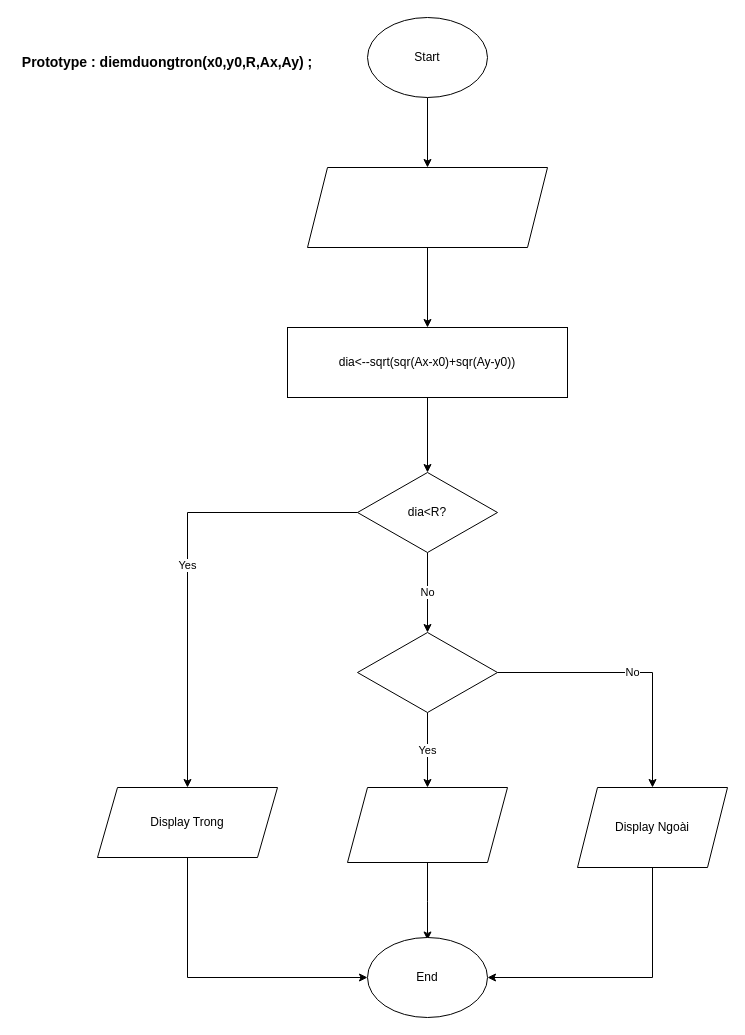
Some shapes in this 745 by 1035 pixel diagram are drawn without their labels. The shapes that lost their labels are listed below. From the top down, each one's centre as x and y in pixels, then its label:
At (427,207): "Input x0,y0,R,Ax,Ay".
At (427,672): "dia=R?".
At (427,824): "Display Trên đường tròn".
